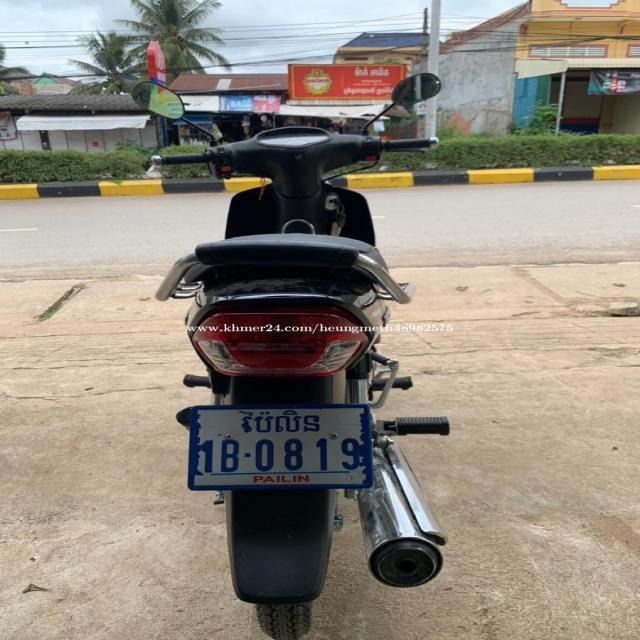Pailin: (236, 408, 320, 438)
